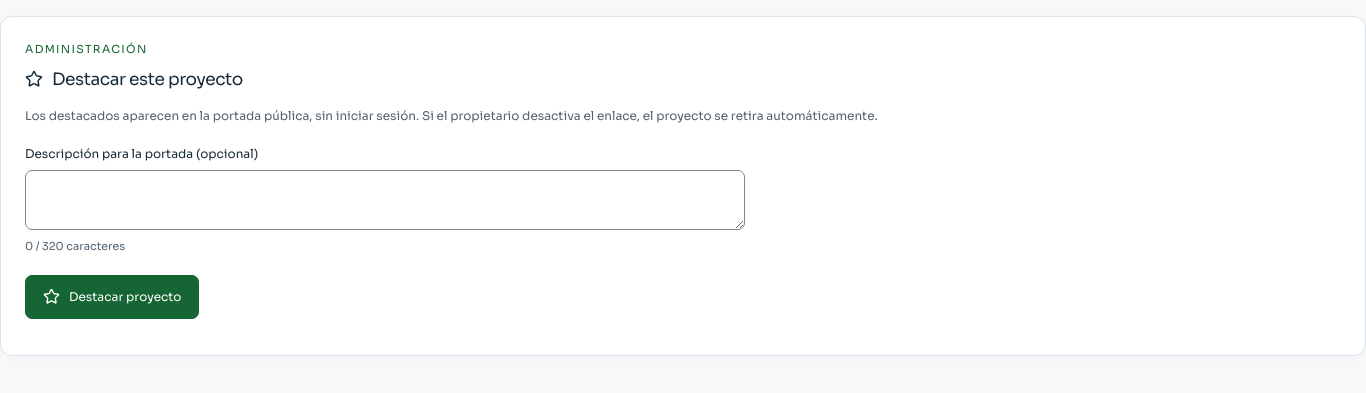
Administrator selections › lets staff without superuser privileges feature their shared project
In the text box labelled "Descripción para la portada (opcional)": (385, 200) x1=25 y1=170 x2=745 y2=230, type "Texto público"
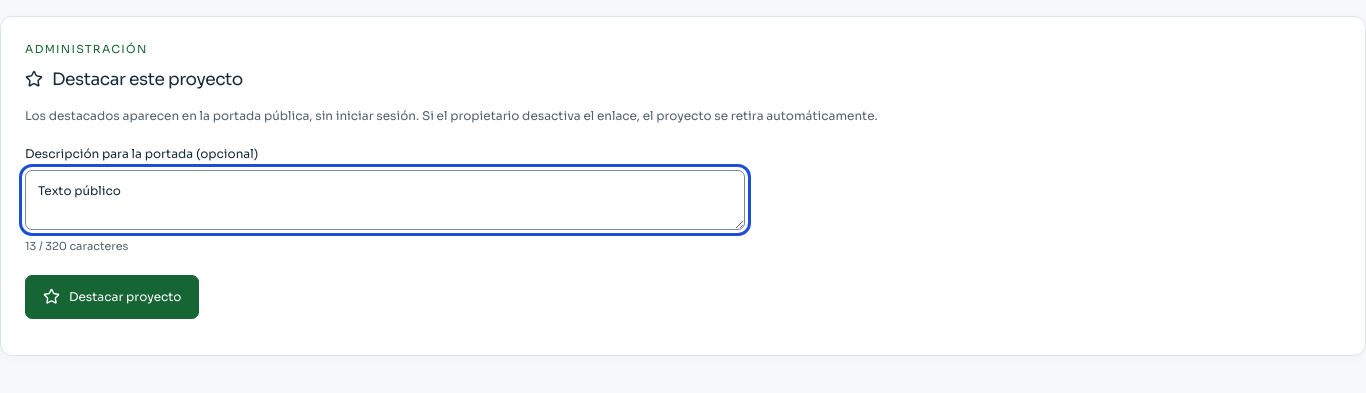
Click the button "Destacar proyecto": (112, 297) x1=25 y1=275 x2=199 y2=319
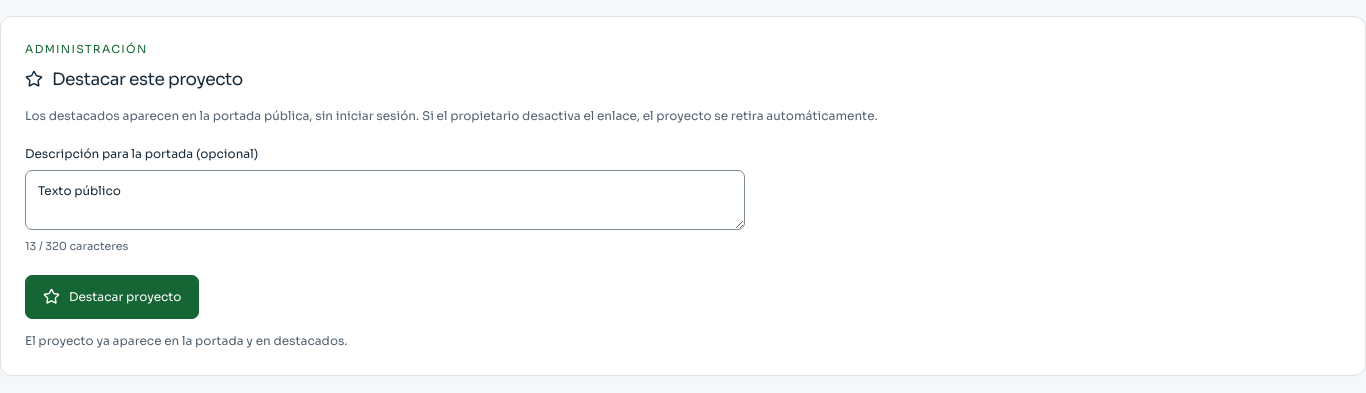
Now the message shows "El proyecto ya aparece", box x1=25 y1=333 x2=348 y2=348
